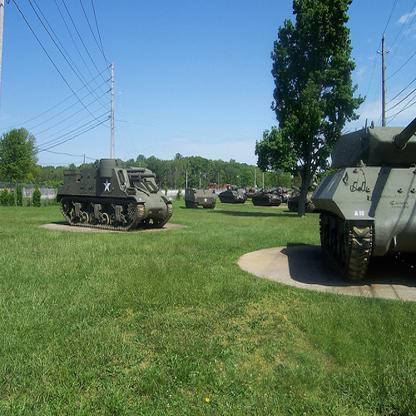Tank: (317, 126, 416, 299), (54, 154, 175, 242), (180, 180, 221, 218), (253, 184, 280, 217), (220, 184, 246, 213)
